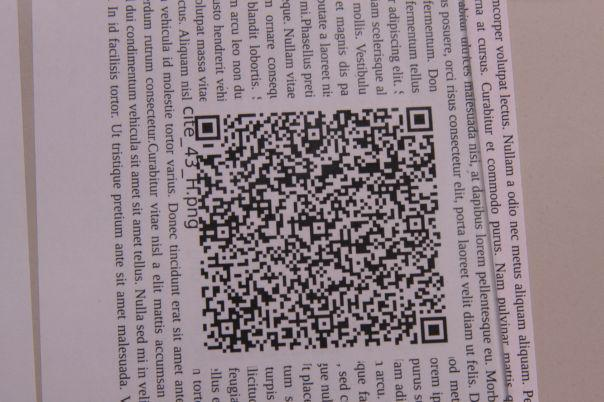Finder pattern: (416, 312, 453, 349), (403, 104, 436, 136), (191, 113, 222, 143)
